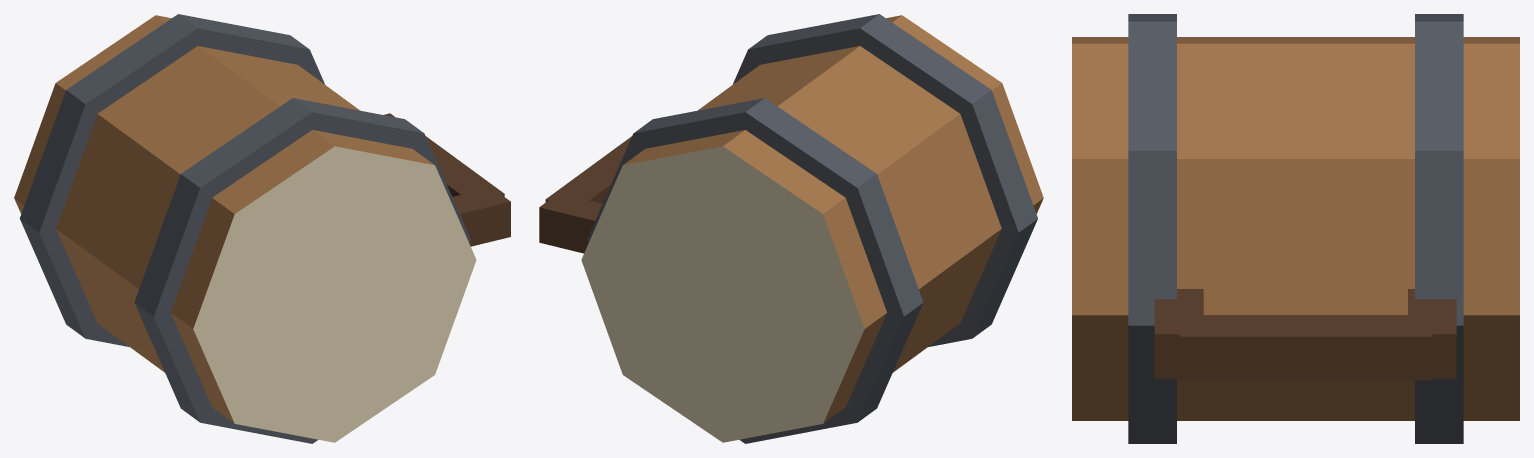
The model's file is prop_mug.glb.
3 views of the same model, side by side, from view 1: azimuth 30°, elevation 25°; view 2: azimuth 150°, elevation 25°; view 3: azimuth 270°, elevation 25° (orthographic). The views are drawn at different scales.
Parts seen in each view (by area): view 1: prop_mug; view 2: prop_mug; view 3: prop_mug.
Boxes of the visible parts, x1,y1,x2,y2 form: prop_mug: (14, 14, 510, 443); prop_mug: (539, 14, 1043, 443); prop_mug: (1072, 14, 1519, 443).
Bounding box in the file's own units: 0.055 × 0.047 × 0.046.
Materials: 1 (1 with a texture image).
